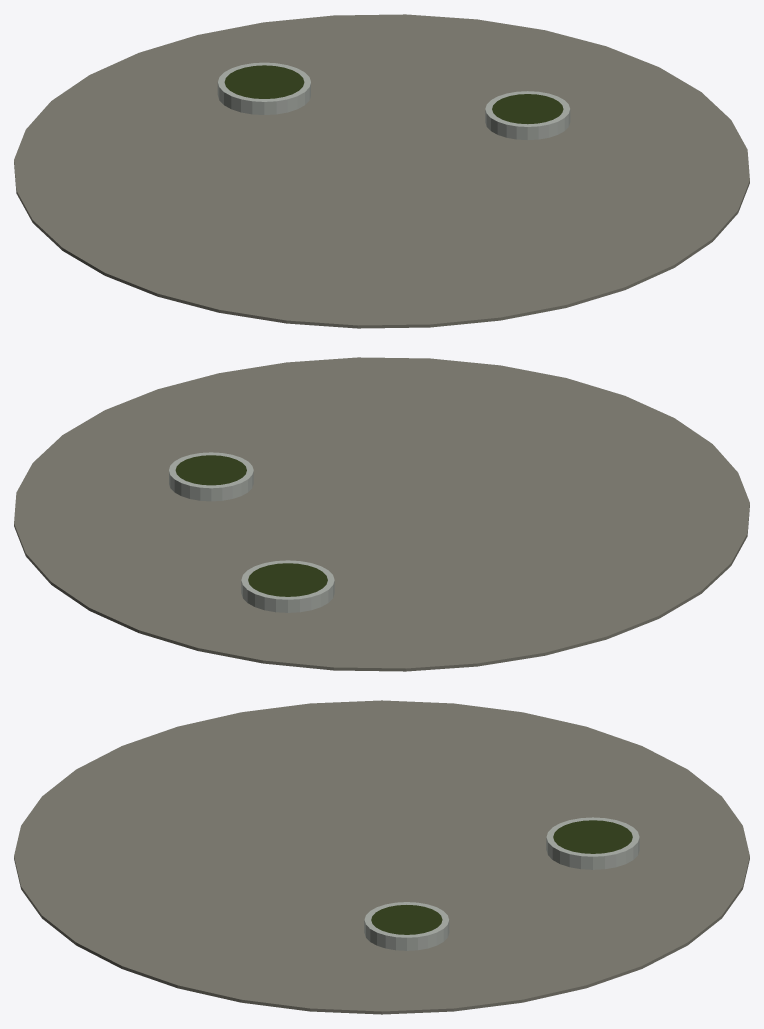
File: sport-3-deck.glb
3 views of the same model, one above another, from view 1: azimuth 30°, elevation 25°; view 2: azimuth 150°, elevation 25°; view 3: azimuth 270°, elevation 25° (orthographic).
Parts seen in each view (by area): view 1: sport-3-deck; view 2: sport-3-deck; view 3: sport-3-deck.
Boxes of the visible parts, left/top/right/bottom form: sport-3-deck: left=14, top=14, right=749, bottom=328; sport-3-deck: left=14, top=357, right=749, bottom=671; sport-3-deck: left=14, top=700, right=749, bottom=1014.
Bounding box in the file's own units: 66 × 1.6 × 66.
